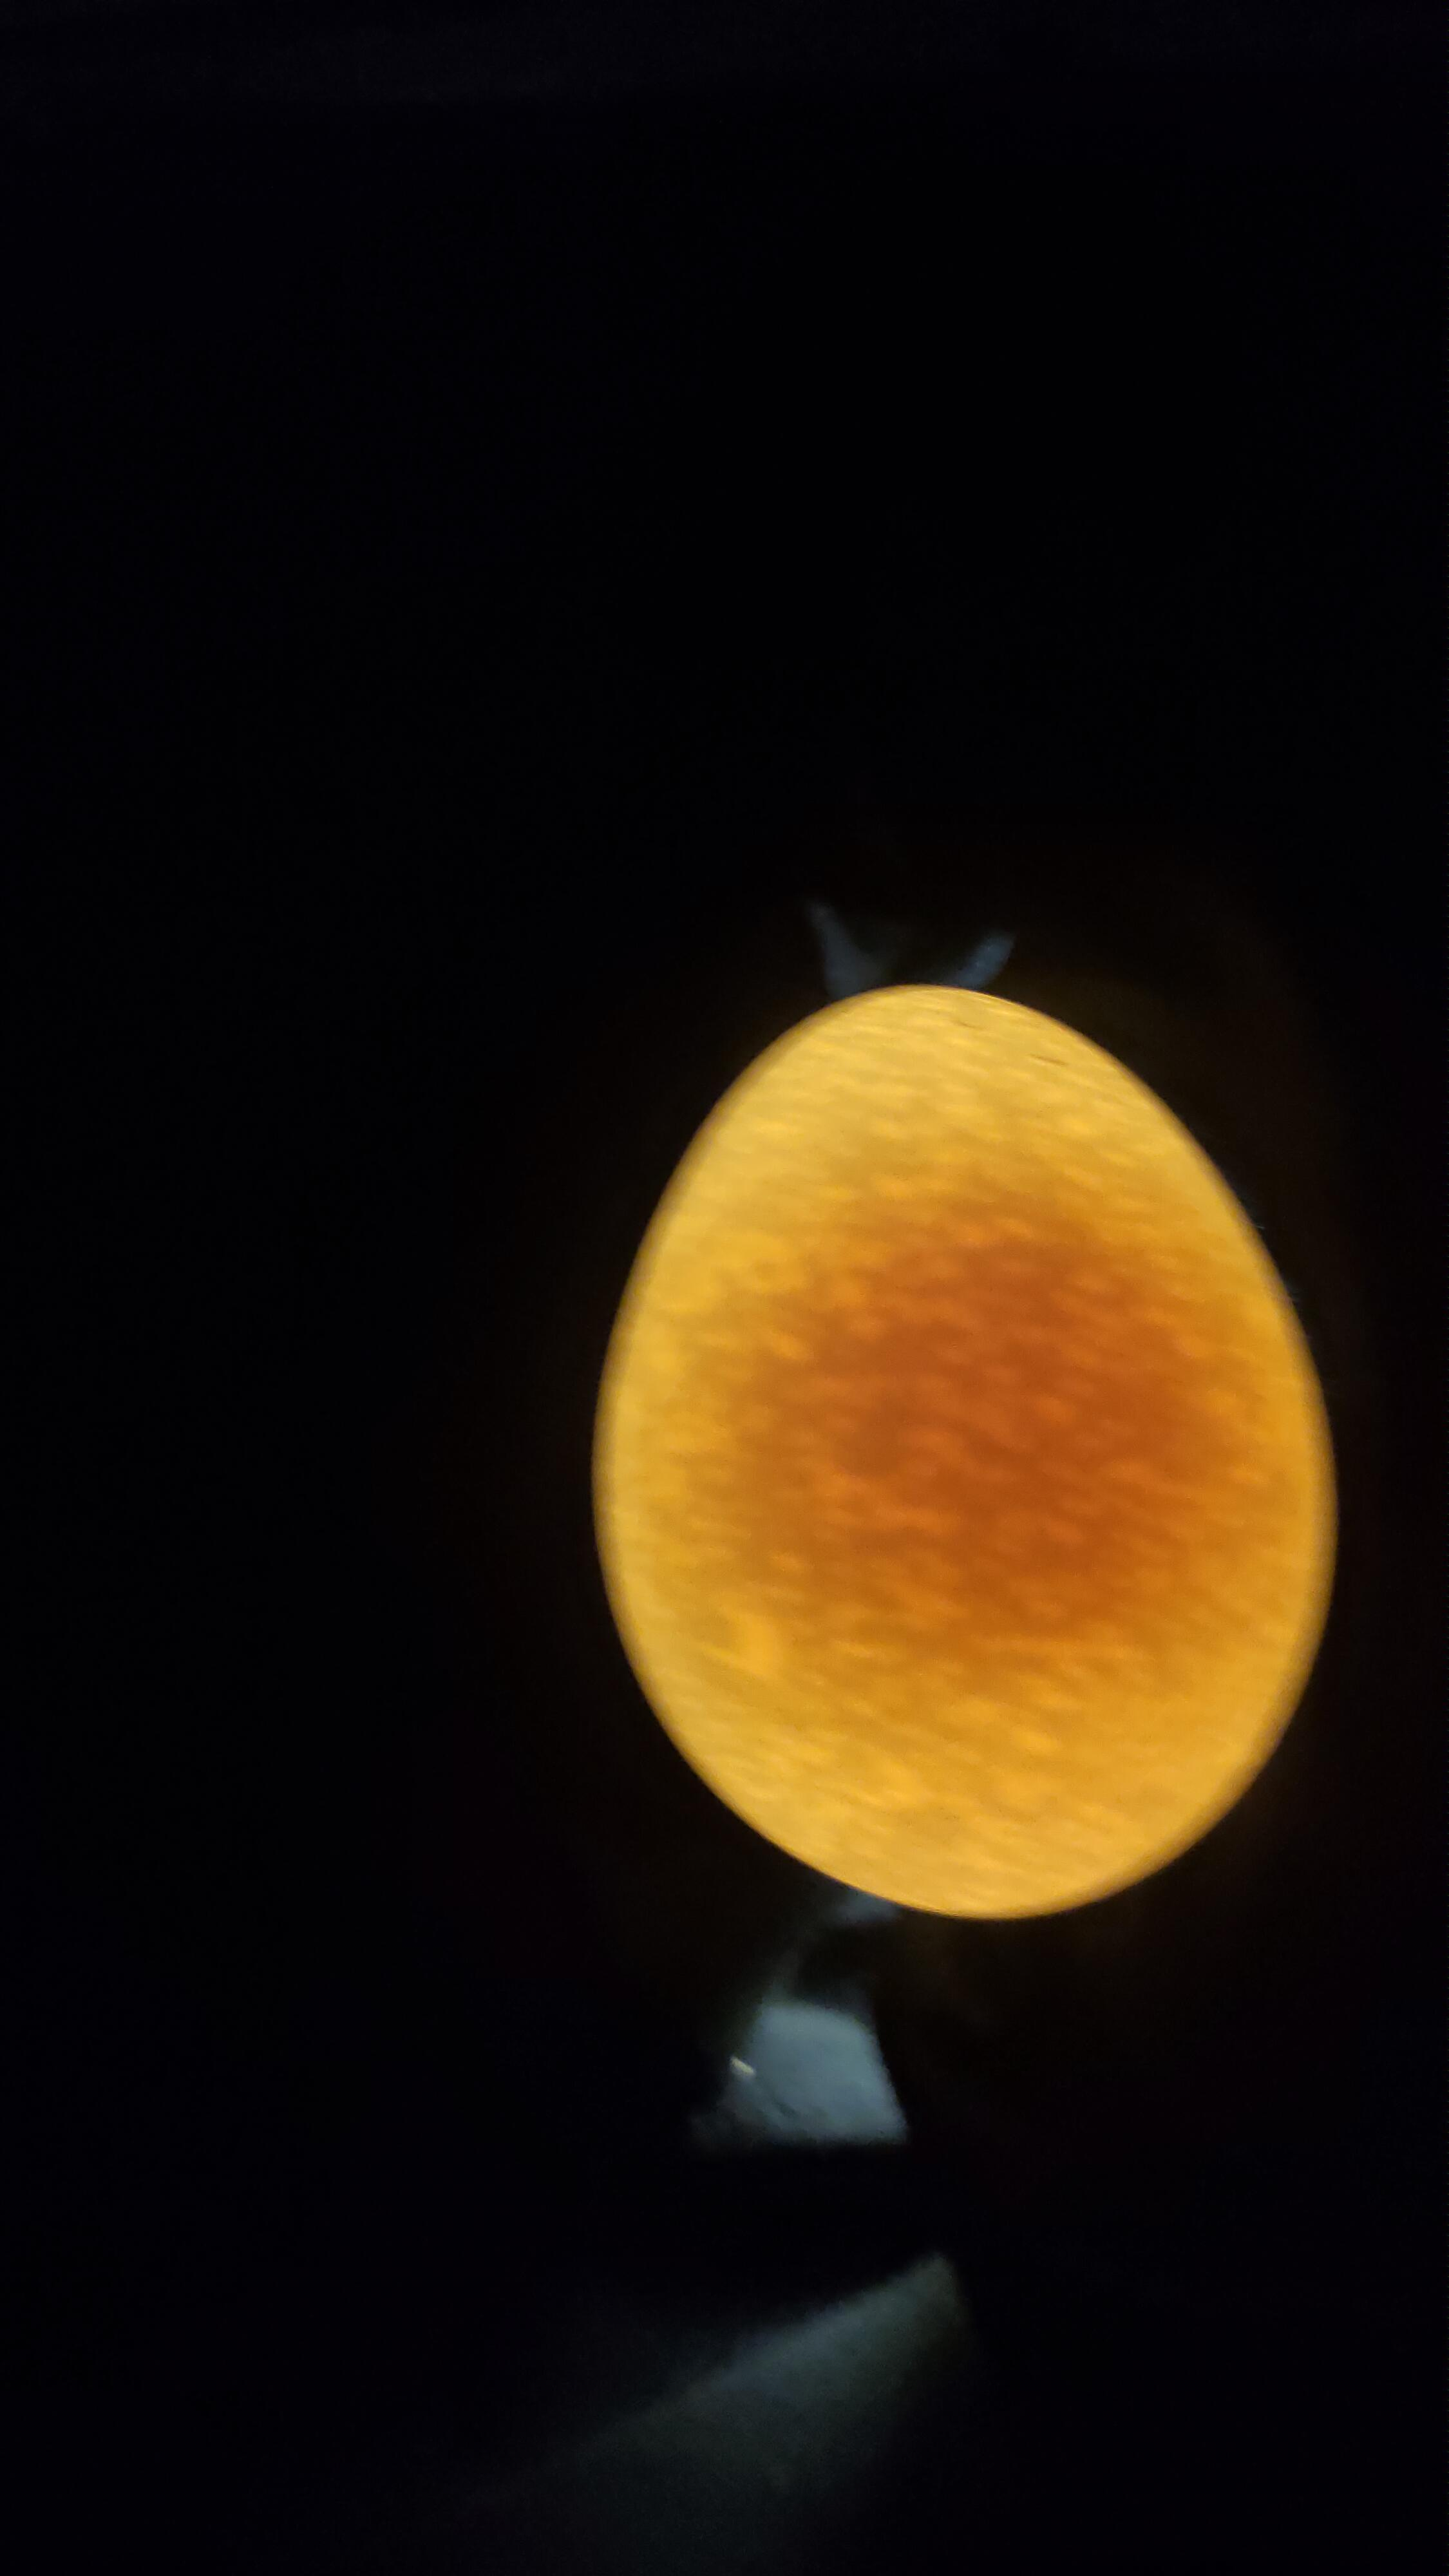A - Good: (561, 934, 1371, 1976)
